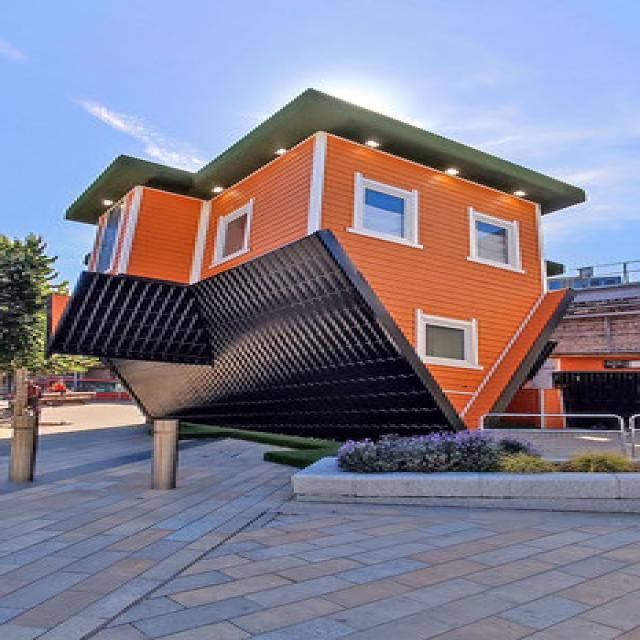building: (48, 83, 595, 466)
